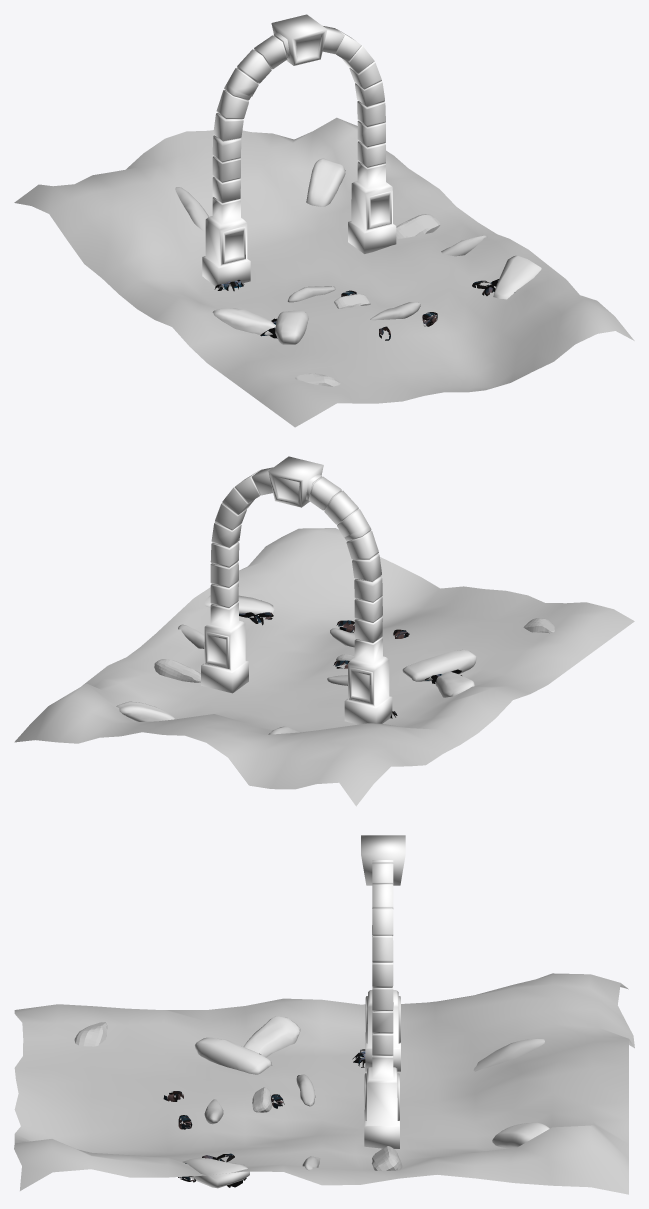
3 renders of one model, top to bottom at view 1: azimuth 30°, elevation 25°; view 2: azimuth 150°, elevation 25°; view 3: azimuth 270°, elevation 25°, orthographic. The views are drawn at different scales.
Visible parts, largest first — view 1: Plane.001, portal_full_w_uv_LOW, stone_02_low_Plane.001, stone_04_w_rune_low_Plane.000, stone_10_w_rune_low_Plane.025, stone_05_w_rune_low_Plane.018, stone_03_w_rune_low_Plane.014; view 2: Plane.001, portal_full_w_uv_LOW, stone_02_low_Plane.001, stone_03_w_rune_low_Plane.014, stone_04_w_rune_low_Plane.000, stone_05_w_rune_low_Plane.018, stone_10_w_rune_low_Plane.025; view 3: Plane.001, portal_full_w_uv_LOW, stone_02_low_Plane.001, stone_03_w_rune_low_Plane.014, stone_05_w_rune_low_Plane.018, stone_10_w_rune_low_Plane.025, stone_04_w_rune_low_Plane.000.
Boxes of the visible parts, bbox=[...] form: Plane.001: bbox=[14, 117, 634, 427]; portal_full_w_uv_LOW: bbox=[202, 14, 396, 288]; stone_02_low_Plane.001: bbox=[175, 187, 498, 386]; stone_04_w_rune_low_Plane.000: bbox=[306, 158, 345, 206]; stone_10_w_rune_low_Plane.025: bbox=[493, 255, 541, 299]; stone_05_w_rune_low_Plane.018: bbox=[212, 308, 275, 335]; stone_03_w_rune_low_Plane.014: bbox=[275, 310, 308, 344]; Plane.001: bbox=[14, 528, 634, 806]; portal_full_w_uv_LOW: bbox=[201, 456, 392, 724]; stone_02_low_Plane.001: bbox=[154, 612, 554, 734]; stone_03_w_rune_low_Plane.014: bbox=[402, 650, 476, 681]; stone_04_w_rune_low_Plane.000: bbox=[116, 701, 175, 721]; stone_05_w_rune_low_Plane.018: bbox=[435, 671, 474, 697]; stone_10_w_rune_low_Plane.025: bbox=[204, 595, 274, 614]; Plane.001: bbox=[14, 973, 634, 1194]; portal_full_w_uv_LOW: bbox=[361, 835, 405, 1148]; stone_02_low_Plane.001: bbox=[74, 1022, 544, 1170]; stone_03_w_rune_low_Plane.014: bbox=[195, 1037, 272, 1074]; stone_05_w_rune_low_Plane.018: bbox=[243, 1016, 300, 1057]; stone_10_w_rune_low_Plane.025: bbox=[183, 1157, 249, 1188]; stone_04_w_rune_low_Plane.000: bbox=[492, 1122, 549, 1148].
Size of the model in its own units: 4807 by 3465 by 6854.
